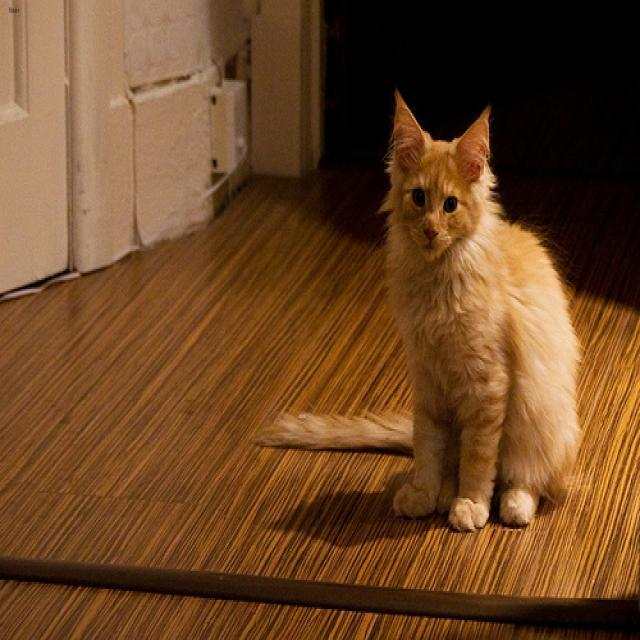Maine_Coon: (385, 86, 495, 268)
